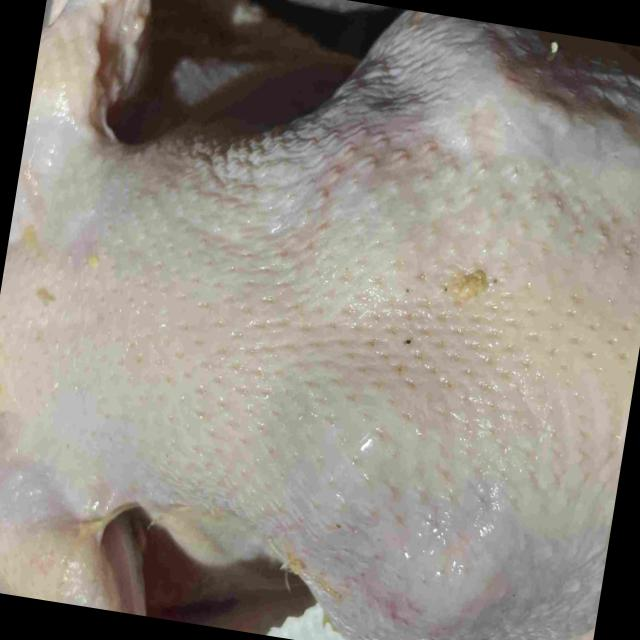back: (7, 94, 640, 532)
leg: (326, 533, 606, 640), (434, 14, 640, 111)
wing: (12, 0, 315, 216), (0, 454, 301, 637)
